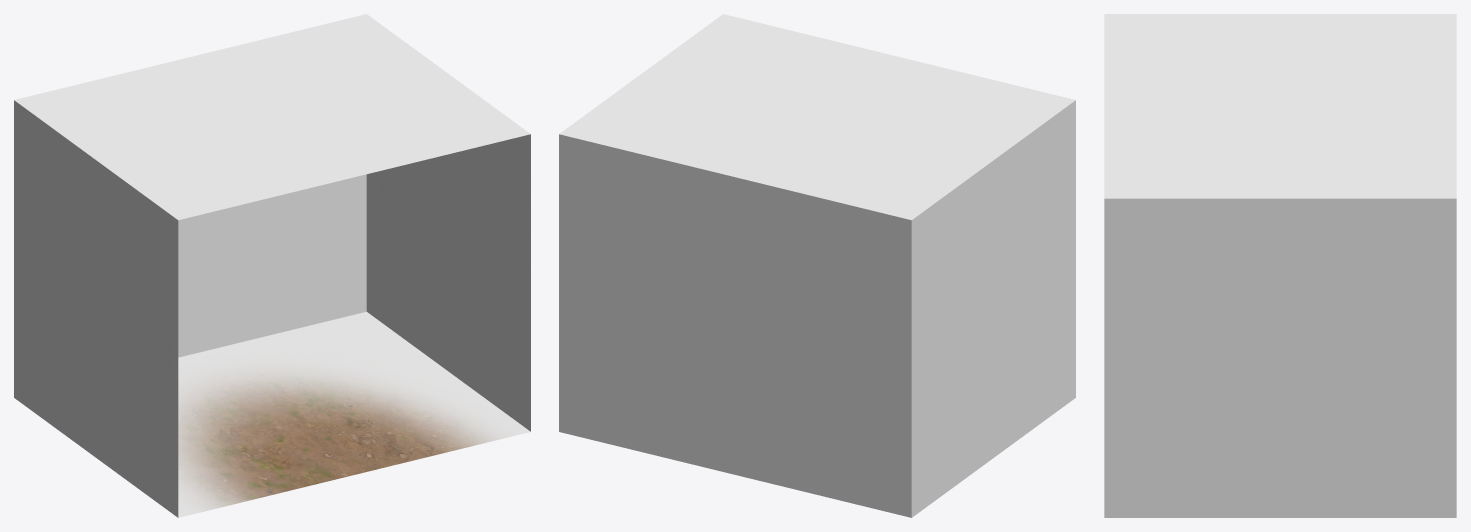
Rendered from Outdoor_box_1.fbx.
3 renders of one model, left to right at view 1: azimuth 30°, elevation 25°; view 2: azimuth 150°, elevation 25°; view 3: azimuth 270°, elevation 25°, orthographic. The views are drawn at different scales.
Visible parts, largest first — view 1: Outdoor_box_1; view 2: Outdoor_box_1; view 3: Outdoor_box_1.
Part boxes in pixels (x1,y1,x2,y2): Outdoor_box_1: (14,14,530,517); Outdoor_box_1: (559,14,1075,517); Outdoor_box_1: (1104,14,1456,517).
Size of the model in its own units: 3.72 by 3 by 3.
